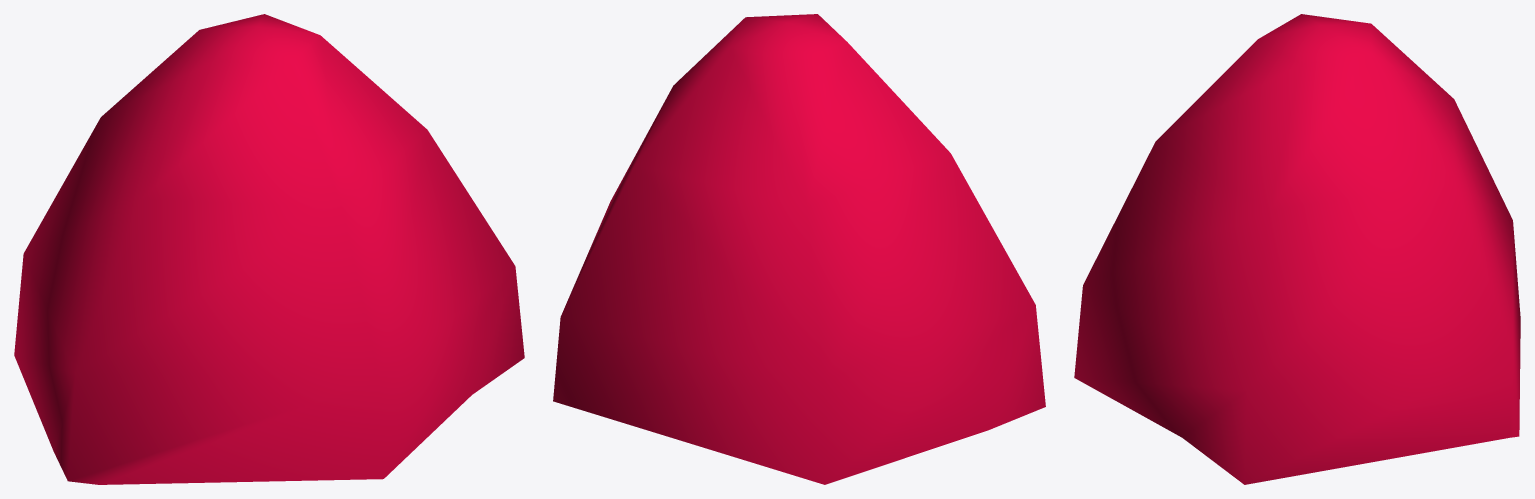
File: EggHalf1.fbx
3 views of the same model, side by side, from view 1: azimuth 30°, elevation 25°; view 2: azimuth 150°, elevation 25°; view 3: azimuth 270°, elevation 25° (orthographic). The views are drawn at different scales.
Parts seen in each view (by area): view 1: Sphere.002; view 2: Sphere.002; view 3: Sphere.002.
Boxes of the visible parts, left/top/right/bottom form: Sphere.002: left=14, top=14, right=524, bottom=484; Sphere.002: left=553, top=14, right=1045, bottom=484; Sphere.002: left=1074, top=14, right=1520, bottom=484.
Bounding box in the file's own units: 140 × 109 × 121.
